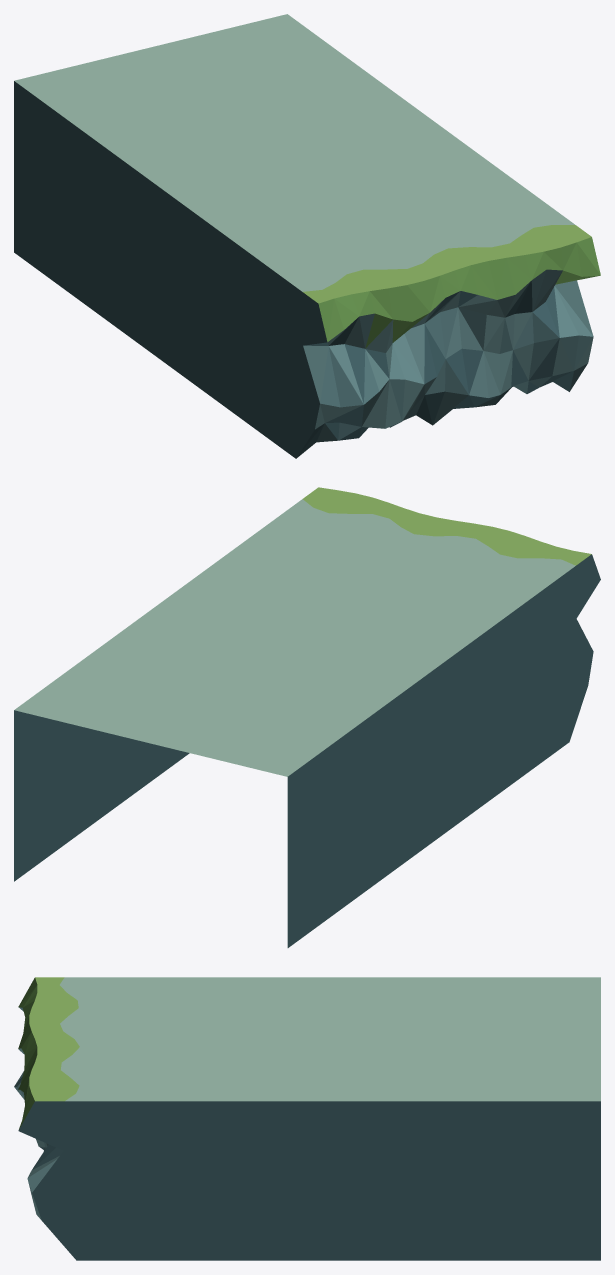
The model's file is cave_rock_2m.glb.
3 renders of one model, top to bottom at view 1: azimuth 30°, elevation 25°; view 2: azimuth 150°, elevation 25°; view 3: azimuth 270°, elevation 25°, orthographic. The views are drawn at different scales.
Parts seen in each view (by area): view 1: cave_rock_2m; view 2: cave_rock_2m; view 3: cave_rock_2m.
Boxes of the visible parts, box(x1,y1,x2,y2) form: cave_rock_2m: box(14, 14, 600, 458); cave_rock_2m: box(14, 487, 600, 947); cave_rock_2m: box(14, 977, 600, 1260).
Size of the model in its own units: 2 by 1.2 by 4.
1 material, 1 textured.
